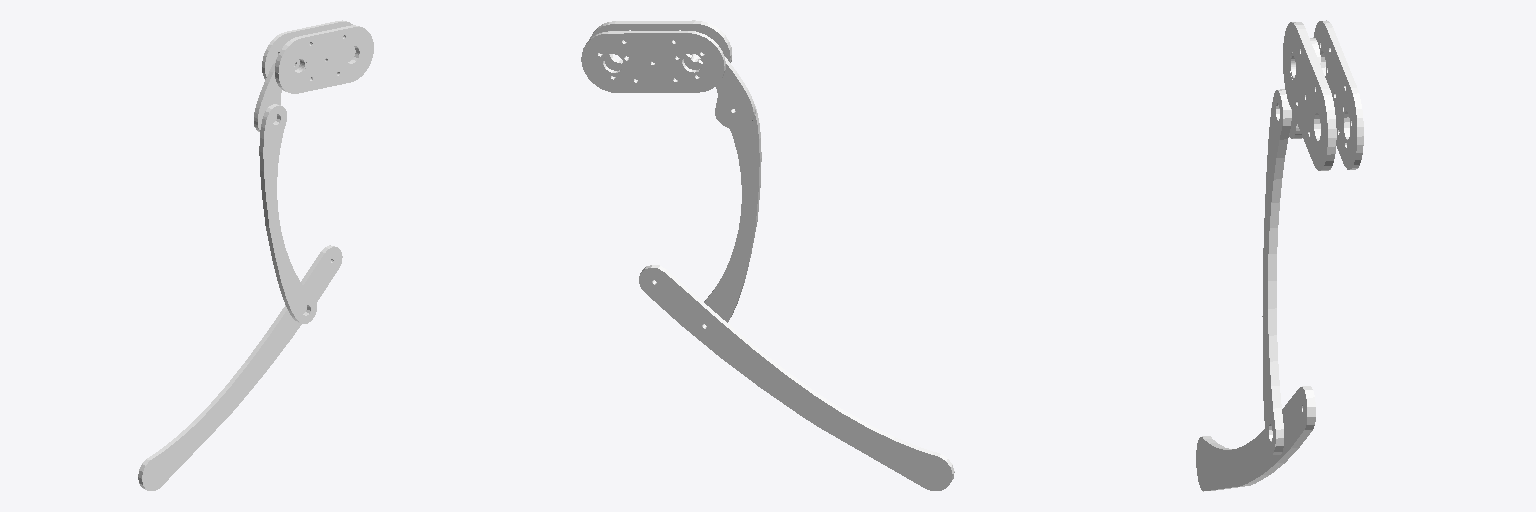
URDF robot description (dogSLDASMzq):
<robot
  name="dogSLDASMzq">
  <link
    name="base_link">
    <inertial>
      <origin
        xyz="-0.155530821712152 0.221566431422054 0.486618641724374"
        rpy="0 0 0" />
      <mass
        value="0.0208829153447499" />
      <inertia
        ixx="4.32294312623559E-06"
        ixy="-2.36836321133348E-06"
        ixz="1.30737288151604E-06"
        iyy="1.40660057631197E-05"
        iyz="1.99332959841374E-07"
        izz="1.26285644079508E-05" />
    </inertial>
    <visual>
      <origin
        xyz="0 0 0"
        rpy="0 0 0" />
      <geometry>
        <mesh
          filename="package://dogSLDASMzq/meshes/base_link.STL" />
      </geometry>
      <material
        name="">
        <color
          rgba="1 1 1 1" />
      </material>
    </visual>
    <collision>
      <origin
        xyz="0 0 0"
        rpy="0 0 0" />
      <geometry>
        <mesh
          filename="package://dogSLDASMzq/meshes/base_link.STL" />
      </geometry>
    </collision>
  </link>
  <link
    name="little1">
    <inertial>
      <origin
        xyz="0.000509089349897407 0.0191985088437776 0.00804402568823503"
        rpy="0 0 0" />
      <mass
        value="0.00508030214699753" />
      <inertia
        ixx="1.98063815621093E-06"
        ixy="7.41816437660907E-10"
        ixz="3.71107699242409E-10"
        iyy="6.3271160898242E-07"
        iyz="-6.45794307193409E-07"
        izz="1.36153532691005E-06" />
    </inertial>
    <visual>
      <origin
        xyz="0 0 0"
        rpy="0 0 0" />
      <geometry>
        <mesh
          filename="package://dogSLDASMzq/meshes/little1.STL" />
      </geometry>
      <material
        name="">
        <color
          rgba="1 1 1 1" />
      </material>
    </visual>
    <collision>
      <origin
        xyz="0 0 0"
        rpy="0 0 0" />
      <geometry>
        <mesh
          filename="package://dogSLDASMzq/meshes/little1.STL" />
      </geometry>
    </collision>
  </link>
  <joint
    name="motor1"
    type="fixed">
    <origin
      xyz="-0.17954 0.21729 0.49012"
      rpy="-2.7077 -0.054634 -1.3412" />
    <parent
      link="base_link" />
    <child
      link="little1" />
    <axis
      xyz="0 0 0" />
  </joint>
  <link
    name="little2">
    <inertial>
      <origin
        xyz="-0.0609307372029643 -0.00649999888829217 -0.0443715213592641"
        rpy="0 0 0" />
      <mass
        value="0.00925987299233387" />
      <inertia
        ixx="1.21331440085349E-05"
        ixy="5.40734691486351E-12"
        ixz="-1.24872051720678E-05"
        iyy="2.60229572522697E-05"
        iyz="4.23264176351129E-12"
        izz="1.39145064581202E-05" />
    </inertial>
    <visual>
      <origin
        xyz="0 0 0"
        rpy="0 0 0" />
      <geometry>
        <mesh
          filename="package://dogSLDASMzq/meshes/little2.STL" />
      </geometry>
      <material
        name="">
        <color
          rgba="1 1 1 1" />
      </material>
    </visual>
    <collision>
      <origin
        xyz="0 0 0"
        rpy="0 0 0" />
      <geometry>
        <mesh
          filename="package://dogSLDASMzq/meshes/little2.STL" />
      </geometry>
    </collision>
  </link>
  <joint
    name="joint_little1"
    type="revolute">
    <origin
      xyz="0 0.034641 0.02"
      rpy="3.1416 0.5236 -1.5708" />
    <parent
      link="little1" />
    <child
      link="little2" />
    <axis
      xyz="0 -1 0" />
    <limit
      lower="0"
      upper="3.1416"
      effort="0"
      velocity="0" />
  </joint>
  <link
    name="little">
    <inertial>
      <origin
        xyz="-0.000499997430791488 -0.0254755624132497 -0.0576538513410443"
        rpy="0 0 0" />
      <mass
        value="0.0169008820775933" />
      <inertia
        ixx="7.34355933905718E-05"
        ixy="-2.78186022922072E-12"
        ixz="-3.86017218022492E-12"
        iyy="6.11679707418963E-05"
        iyz="-2.63788541415557E-05"
        izz="1.23126914825887E-05" />
    </inertial>
    <visual>
      <origin
        xyz="0 0 0"
        rpy="0 0 0" />
      <geometry>
        <mesh
          filename="package://dogSLDASMzq/meshes/little.STL" />
      </geometry>
      <material
        name="">
        <color
          rgba="1 1 1 1" />
      </material>
    </visual>
    <collision>
      <origin
        xyz="0 0 0"
        rpy="0 0 0" />
      <geometry>
        <mesh
          filename="package://dogSLDASMzq/meshes/little.STL" />
      </geometry>
    </collision>
  </link>
  <joint
    name="joint_little2"
    type="revolute">
    <origin
      xyz="-0.10973 0 -0.10227"
      rpy="2.3913 -1.0797E-14 1.5708" />
    <parent
      link="little2" />
    <child
      link="little" />
    <axis
      xyz="-1 0 0" />
    <limit
      lower="0"
      upper="3.1416"
      effort="0"
      velocity="0" />
  </joint>
</robot>

--- What the picture shows (computed from the rendered views, not written in the file) ---
The picture shows the robot from 3 angles, left to right: view 1: azimuth 30°, elevation 25°; view 2: azimuth 150°, elevation 25°; view 3: azimuth 270°, elevation 25°; orthographic projection.
Model dogSLDASMzq with 4 links and 3 joints (2 revolute, 1 fixed), rooted at base_link, posed every joint at zero.
Visible links, largest first — view 1: little, base_link, little2, little1; view 2: little, base_link, little2, little1; view 3: base_link, little2, little.
Boxes of the visible links, <box> form: little: <box>138,245,342,490</box>; base_link: <box>262,20,373,93</box>; little2: <box>259,104,316,323</box>; little1: <box>254,58,299,131</box>; little: <box>639,265,954,490</box>; base_link: <box>581,20,731,92</box>; little2: <box>704,106,761,322</box>; little1: <box>677,52,755,129</box>; base_link: <box>1283,20,1363,170</box>; little2: <box>1262,89,1291,454</box>; little: <box>1196,386,1315,491</box>.
Size in the robot's own frame: 0.2188 by 0.0752 by 0.2932 metres.
Meshes: 4 distinct files referenced, 4 mesh visuals loaded (4 binary STL).
